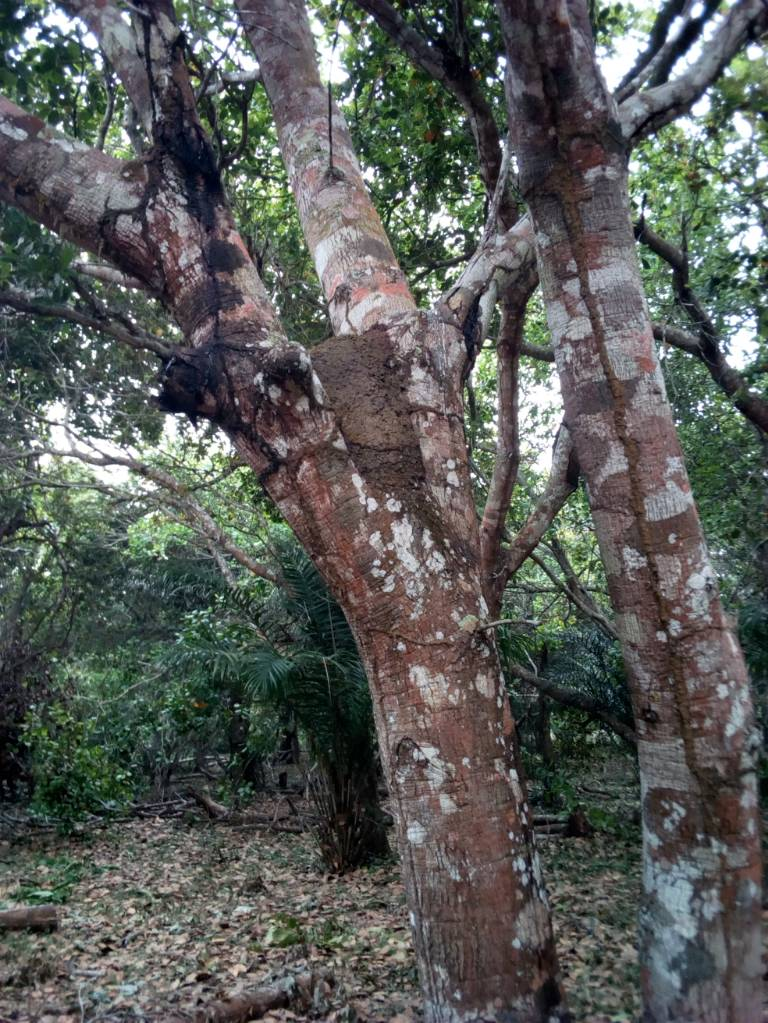Termites: (630, 485, 707, 874), (563, 153, 644, 467), (330, 325, 422, 491)
